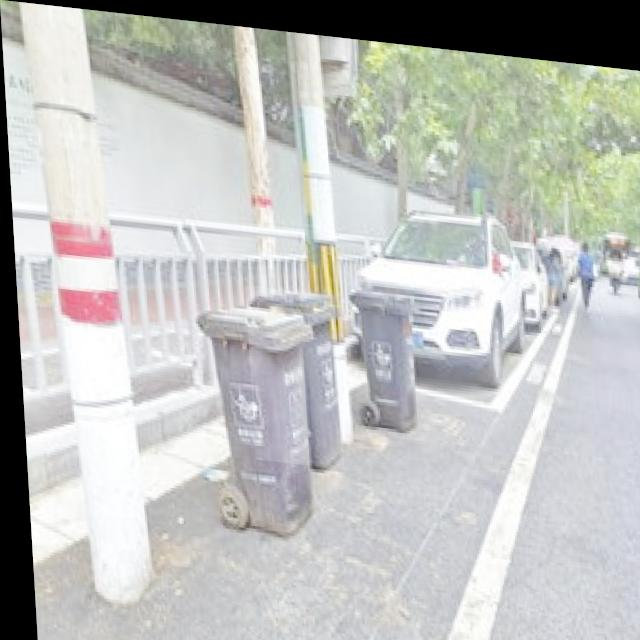garbage_bin: (191, 294, 315, 532), (242, 281, 339, 462), (344, 278, 413, 423)
